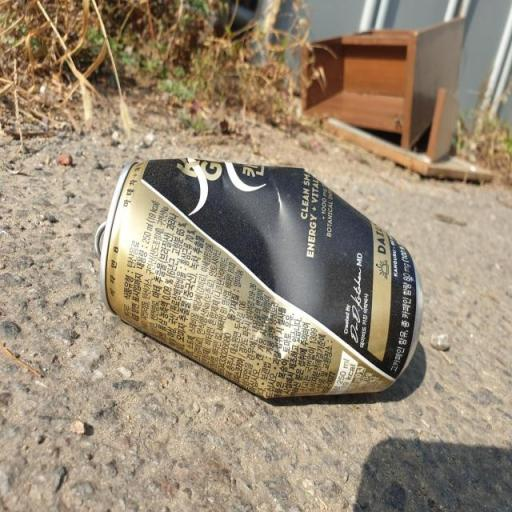metal: (88, 128, 433, 432)
